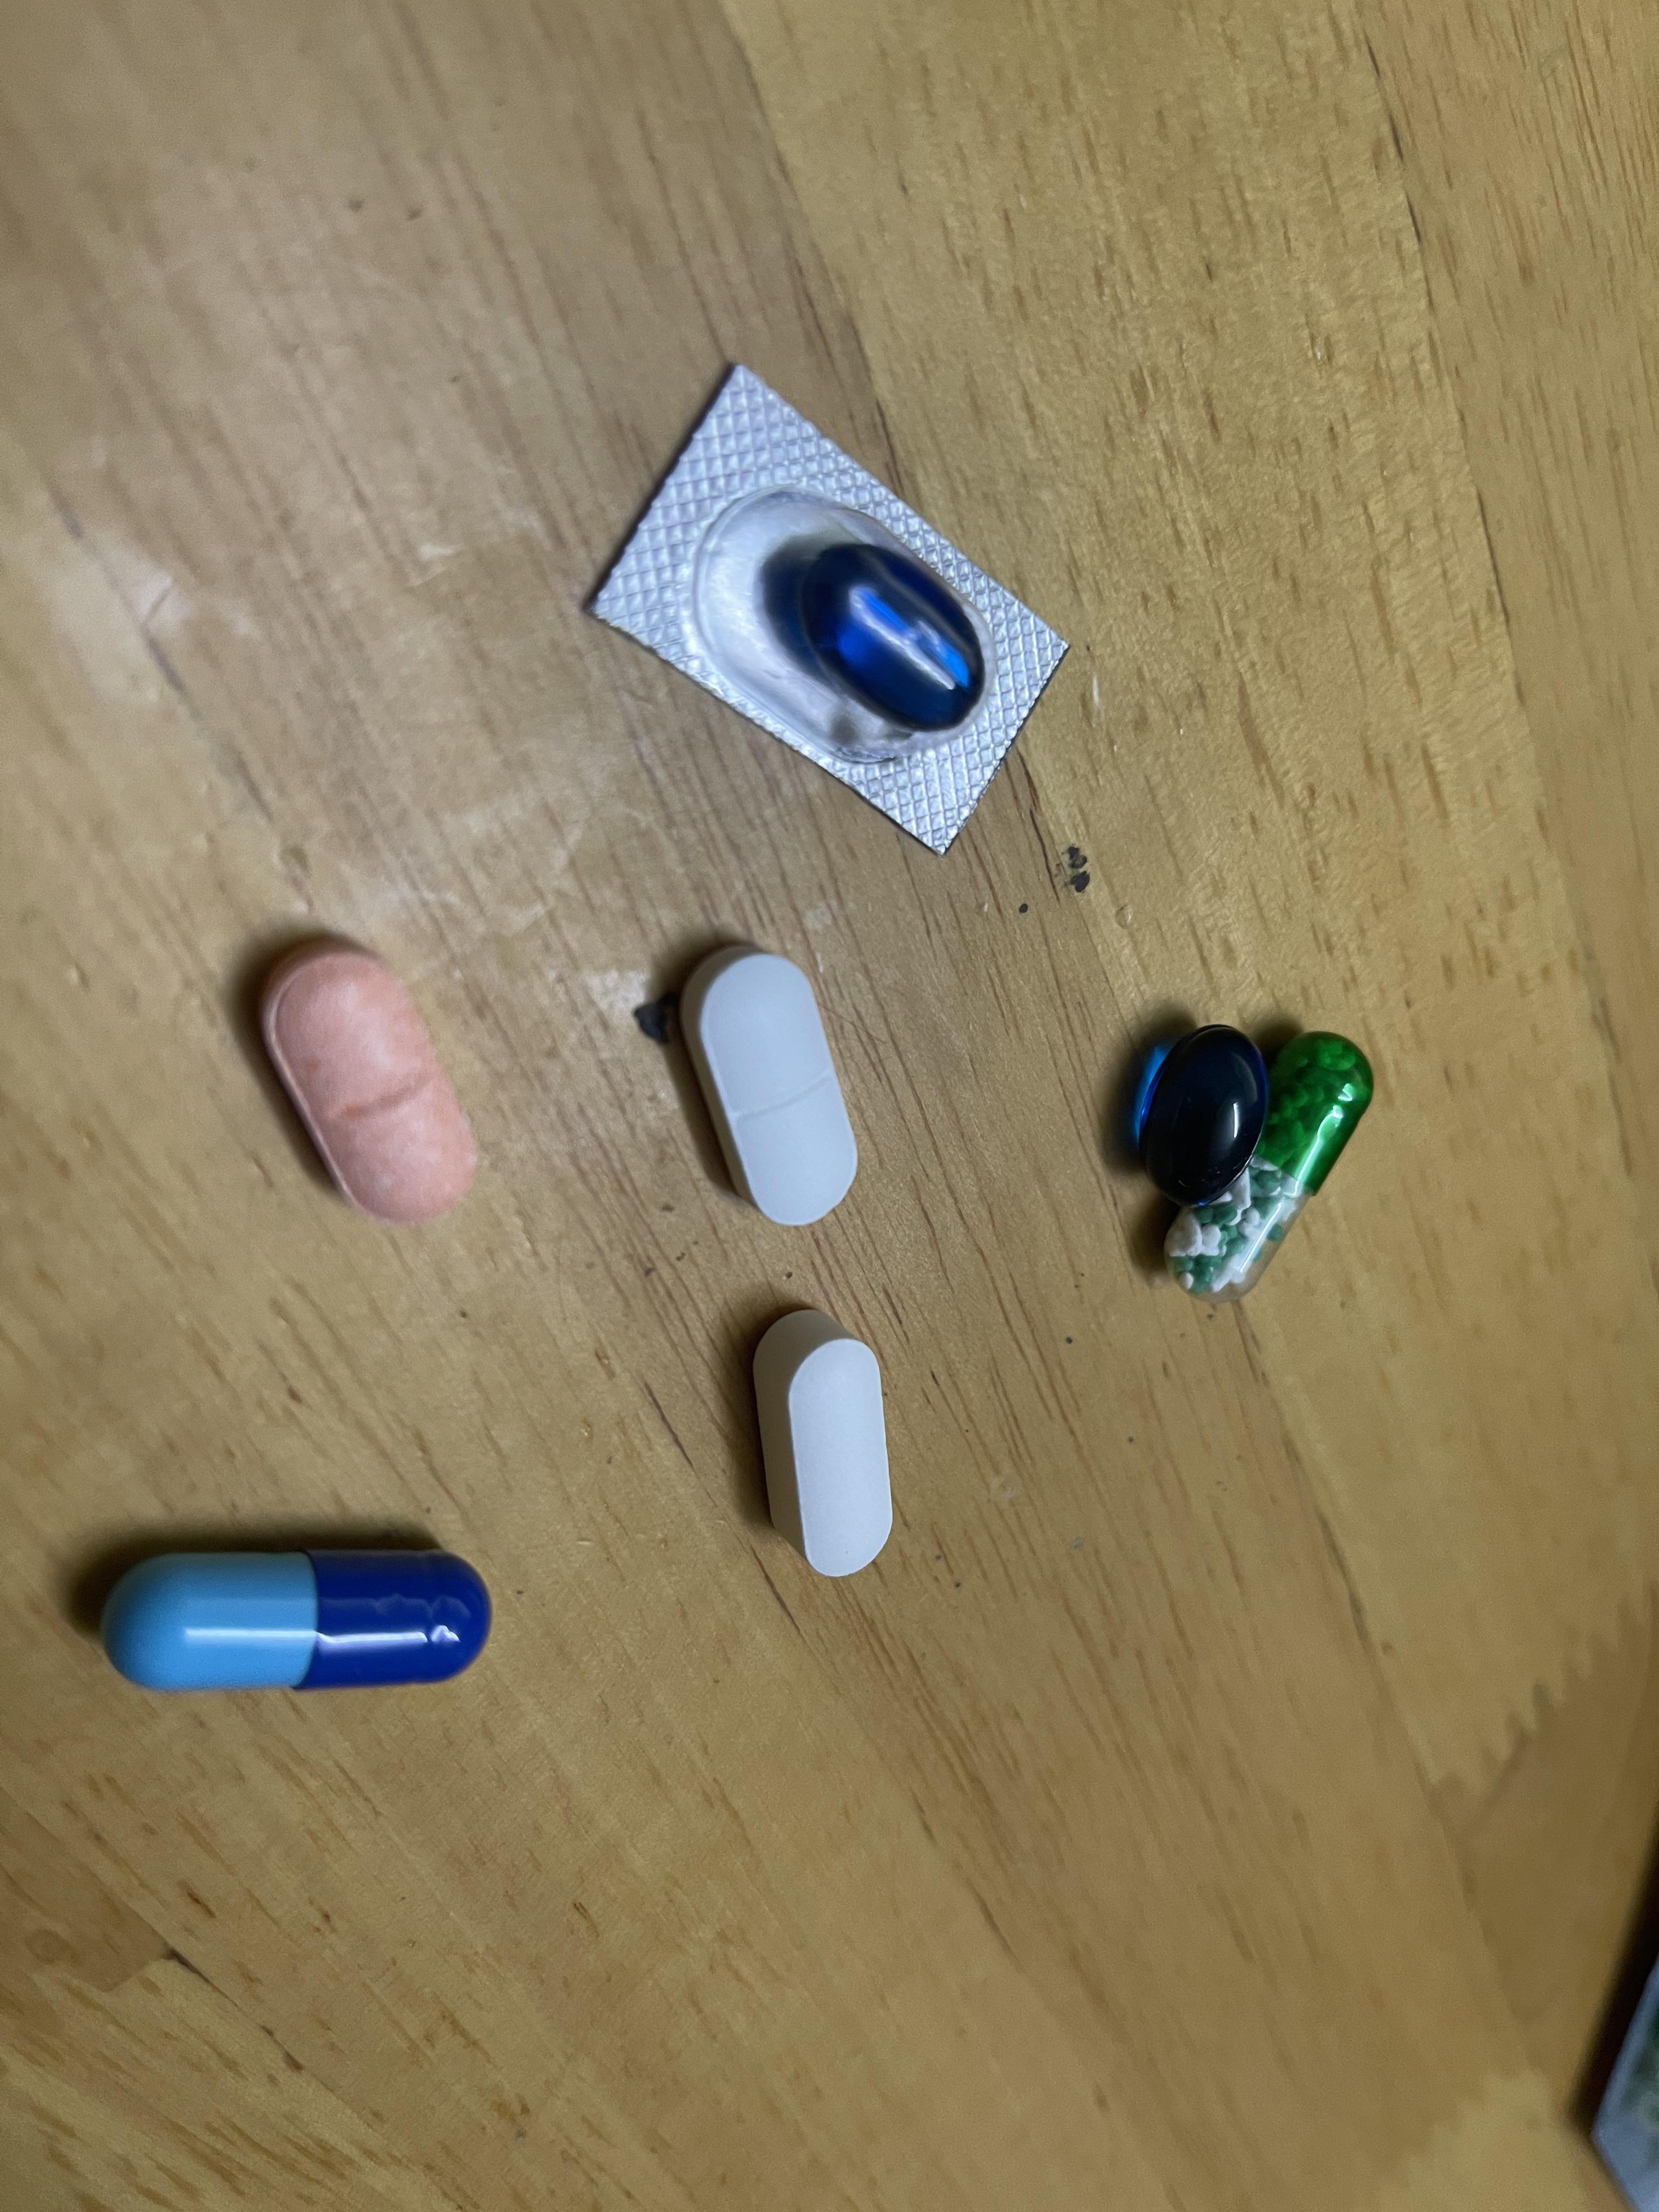Lincomyxin_500mg: (789, 538, 993, 738), (1124, 1021, 1270, 1204)
Loratadine_10mg: (260, 932, 484, 1228)
Paracetamol_350mg: (688, 944, 857, 1221)
Paracetamol_500mg: (777, 1329, 897, 1580)
Paracetamol_650mg: (1159, 1029, 1384, 1299)
pill: (106, 1554, 479, 1689)
